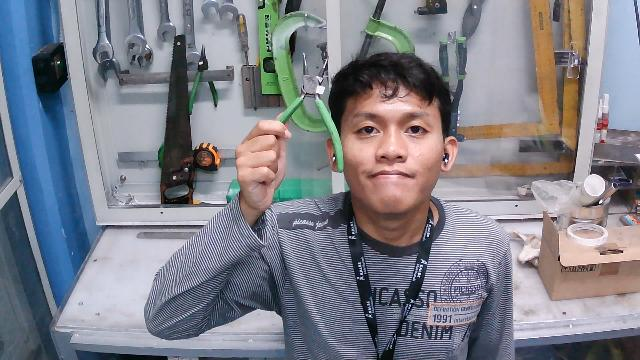tang_cucut_lancip_1: (256, 52, 358, 182)
